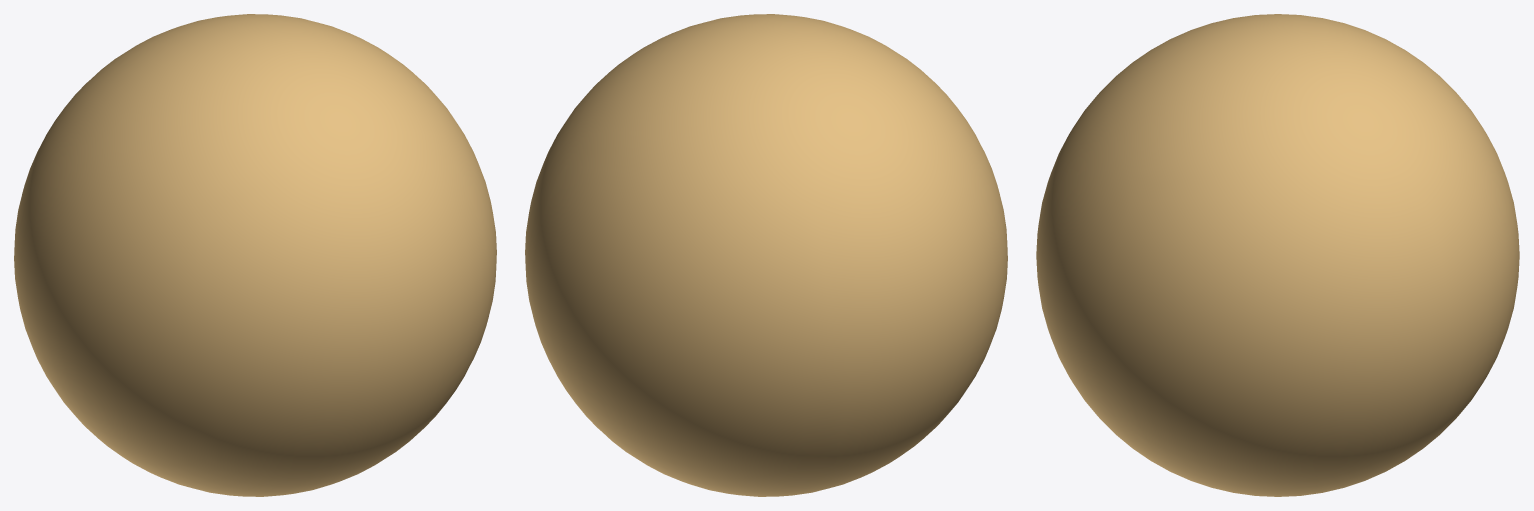
The picture shows the model from 3 angles, left to right: view 1: azimuth 30°, elevation 25°; view 2: azimuth 150°, elevation 25°; view 3: azimuth 270°, elevation 25°; orthographic projection.
Visible parts, largest first — view 1: Sphere; view 2: Sphere; view 3: Sphere.
Boxes of the visible parts, bbox=[...] form: Sphere: bbox=[14, 14, 496, 496]; Sphere: bbox=[525, 14, 1007, 496]; Sphere: bbox=[1036, 14, 1519, 496].
Bounding box in the file's own units: 1.76 × 1.76 × 1.76.
